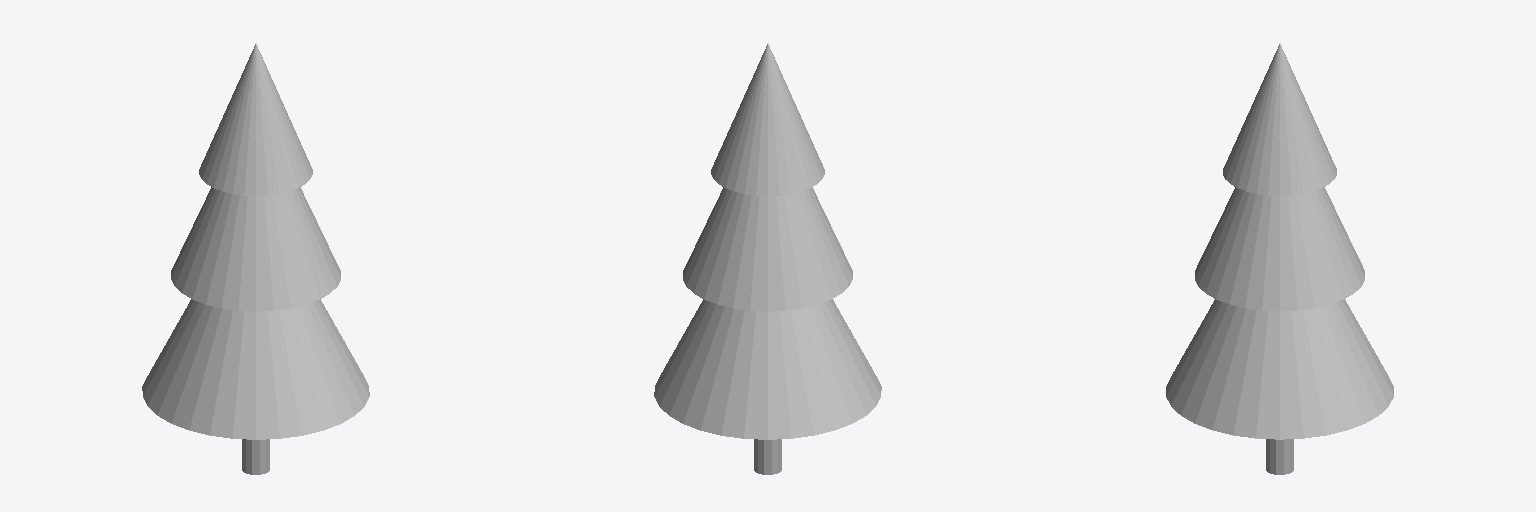
File: ArbolOct.obj
3 renders of one model, left to right at view 1: azimuth 30°, elevation 25°; view 2: azimuth 150°, elevation 25°; view 3: azimuth 270°, elevation 25°, orthographic.
Parts seen in each view (by area): view 1: Ojas, Tronco; view 2: Ojas, Tronco; view 3: Ojas, Tronco.
Boxes of the visible parts, <box> form: Ojas: <box>142,44,369,439</box>; Tronco: <box>242,439,269,474</box>; Ojas: <box>654,44,881,439</box>; Tronco: <box>754,439,781,474</box>; Ojas: <box>1166,44,1393,439</box>; Tronco: <box>1266,439,1293,474</box>.
Size of the model in its own units: 0.5 by 1.03 by 0.5.